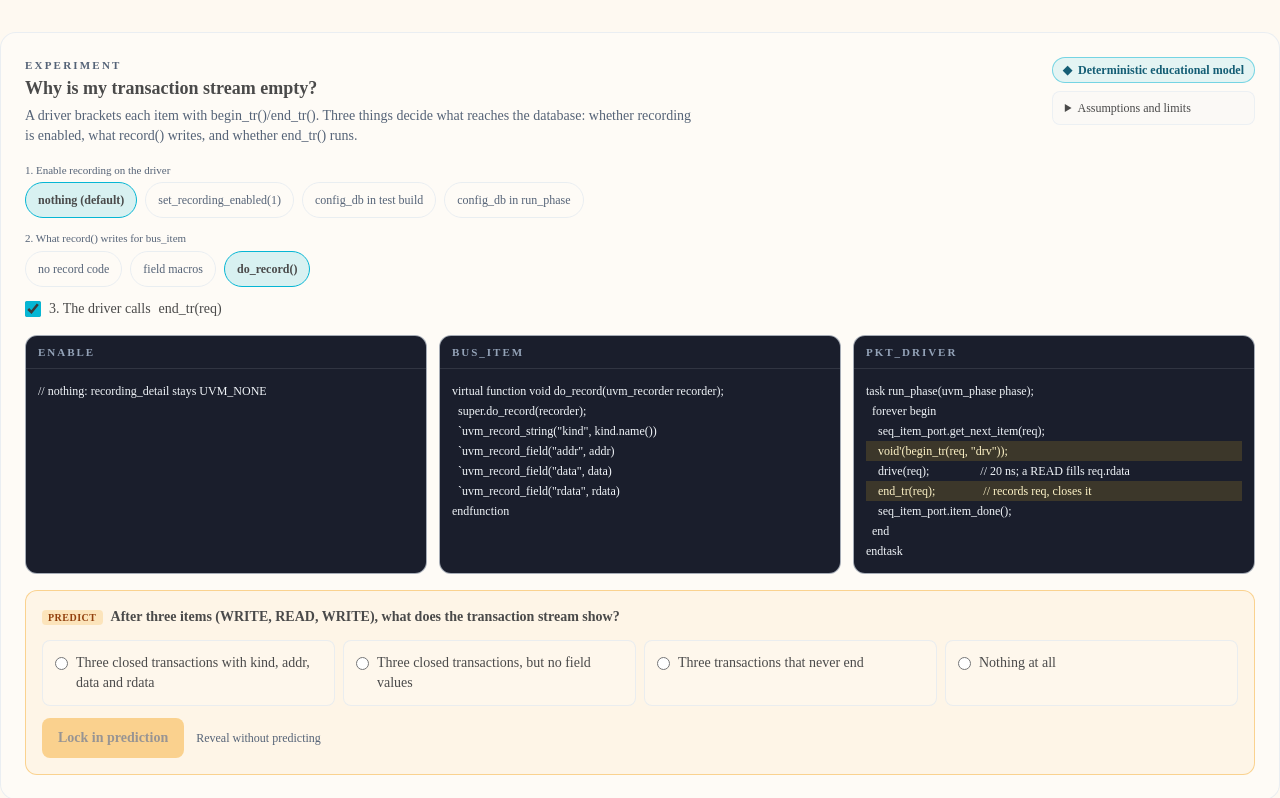
TransactionRecordingVisualizer › forgetting end_tr leaves transactions open with no fields (keyboard selection)
Press ArrowRight in the radio button labelled "nothing (default)", box [25,182,137,218]
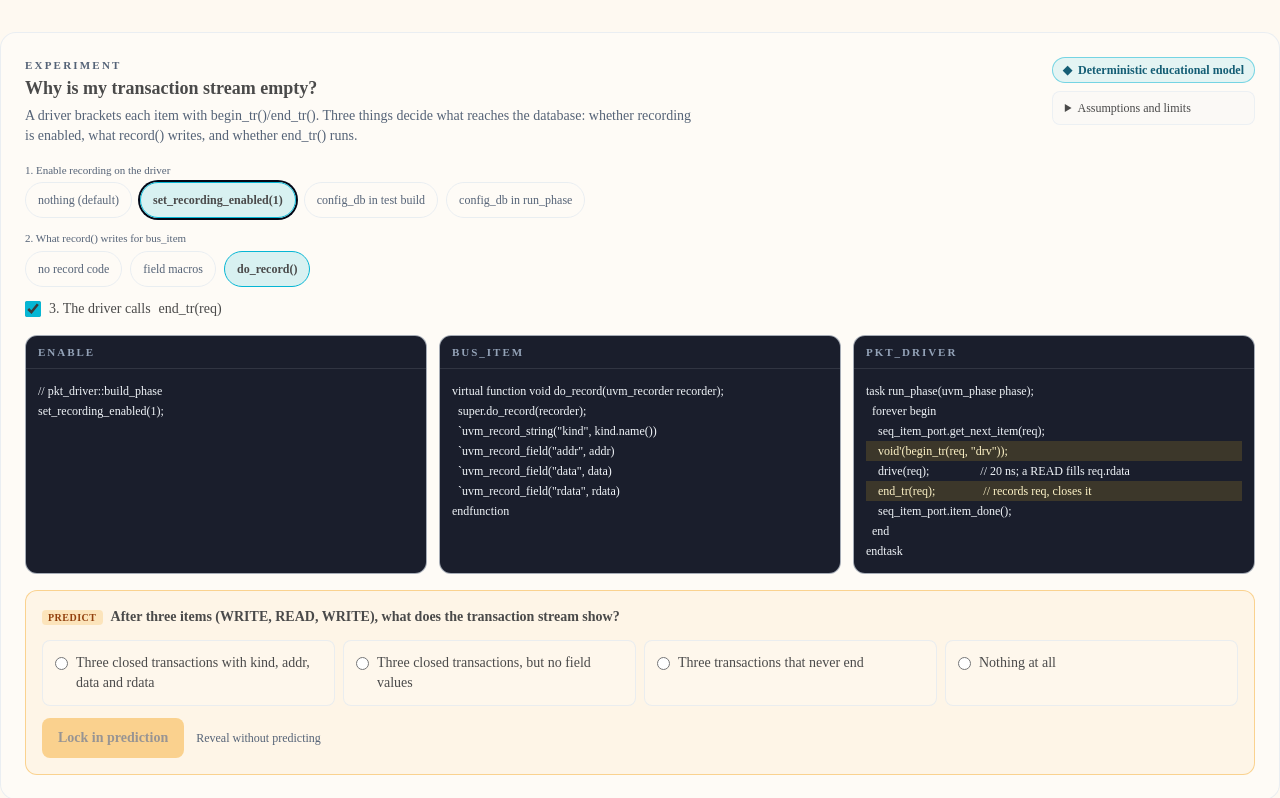
Result: the radio button labelled "set_recording_enabled(1)" is checked at [140,182,296,218]
Click the checkbox labelled "3. The driver calls end_tr(req)" at (33,308), box [25,300,41,316]
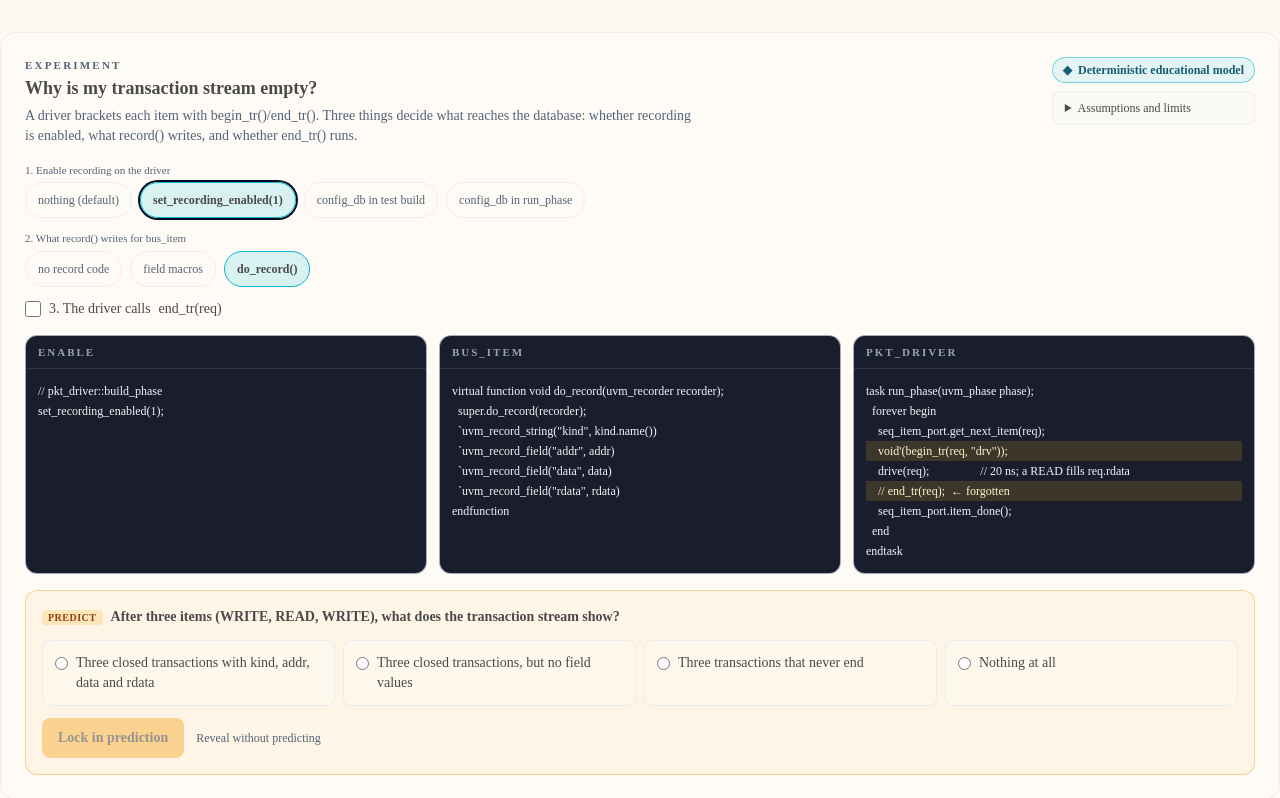
Click the radio button labelled "Three transactions that never end" at (664,664), box [657,657,670,670]
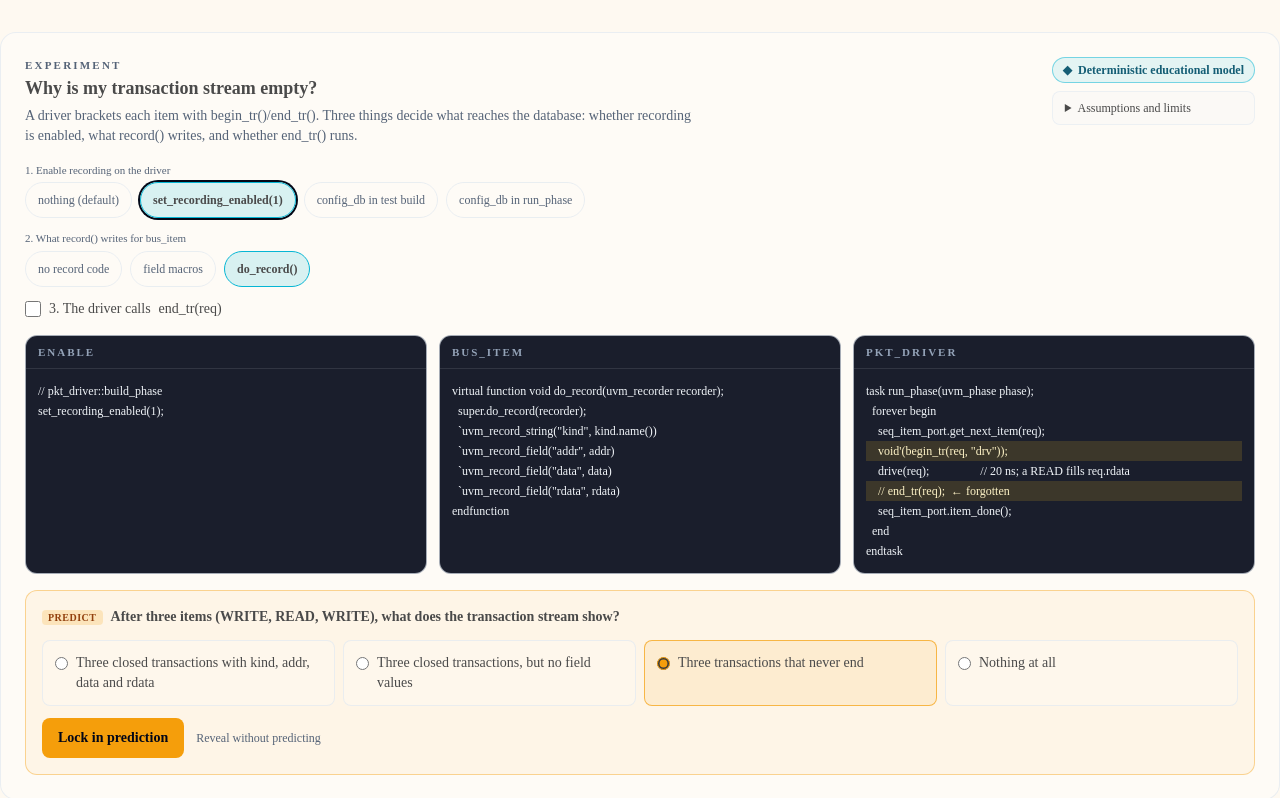
Click the button "Lock in prediction" at (113,738), box [42,718,184,758]
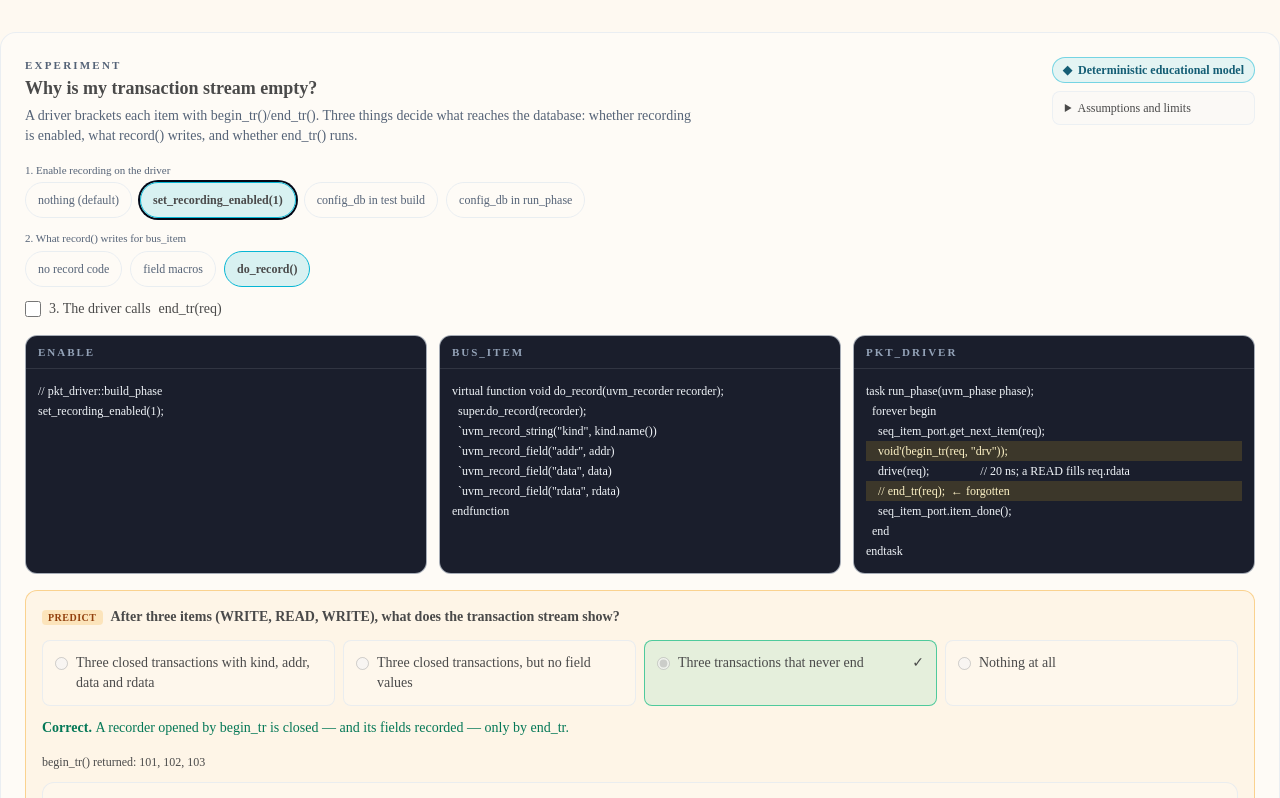
Result: the text "Correct." is shown at [42,720,95,735]
